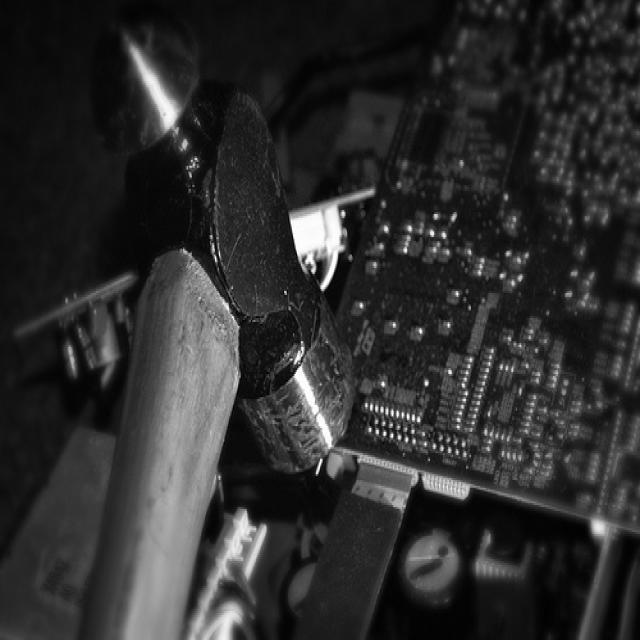hammer: (65, 0, 362, 640)
